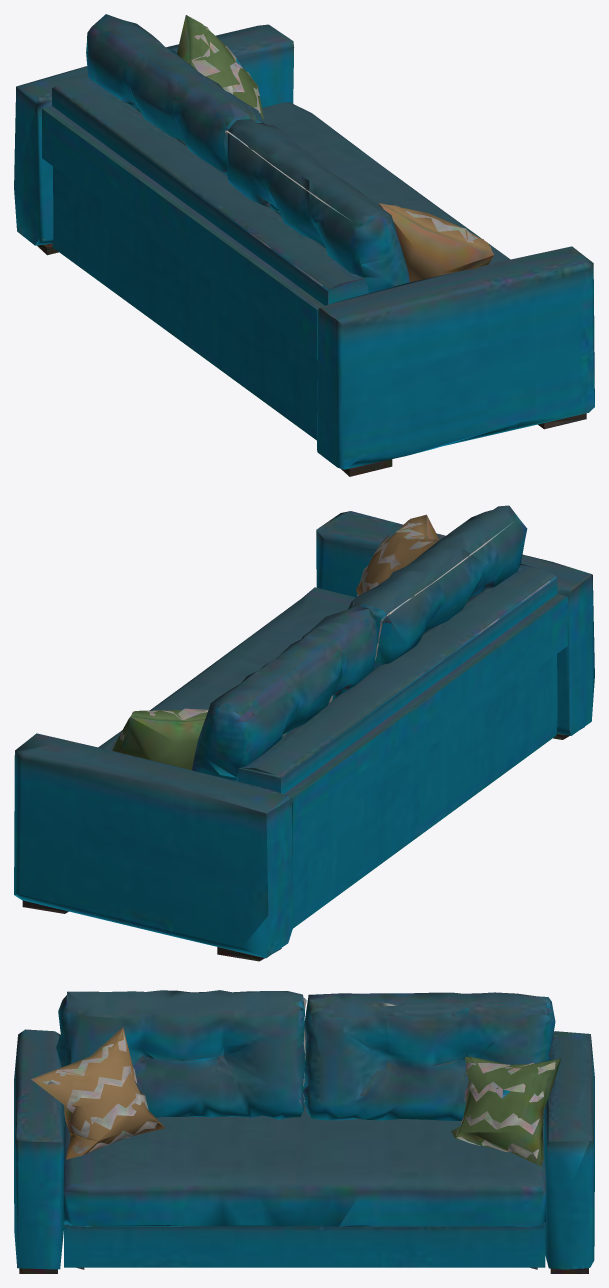
Rendered from M_Sofa0020.obj.
The picture shows the model from 3 angles, top to bottom: view 1: azimuth 30°, elevation 25°; view 2: azimuth 150°, elevation 25°; view 3: azimuth 270°, elevation 25°; orthographic projection. The views are drawn at different scales.
Bounding box in the file's own units: 0.904 × 0.771 × 2.
1 material, 1 textured.
